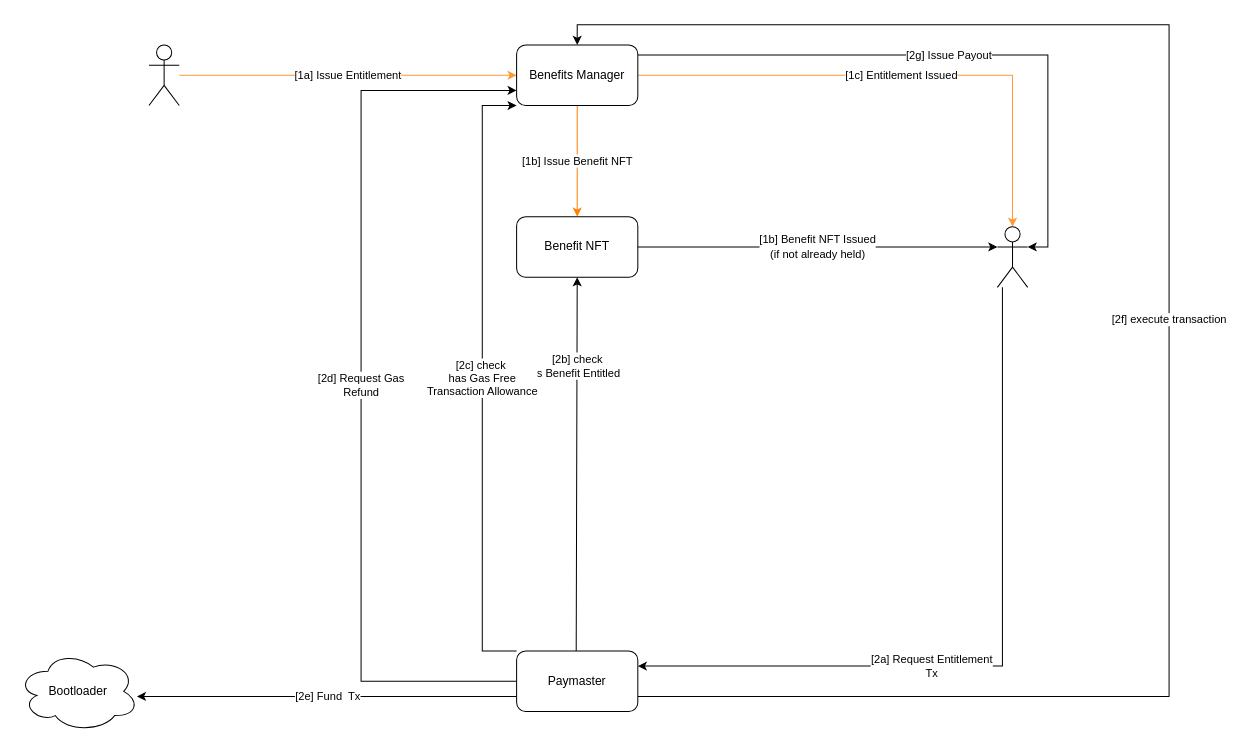
Some shapes in this 1244 by 749 pixel diagram are drawn without their labels. Each missing label, with the centre of its shape:
"Benefiticary" belongs at (x=1012, y=256).
"Benefits Admin" belongs at (x=163, y=75).
